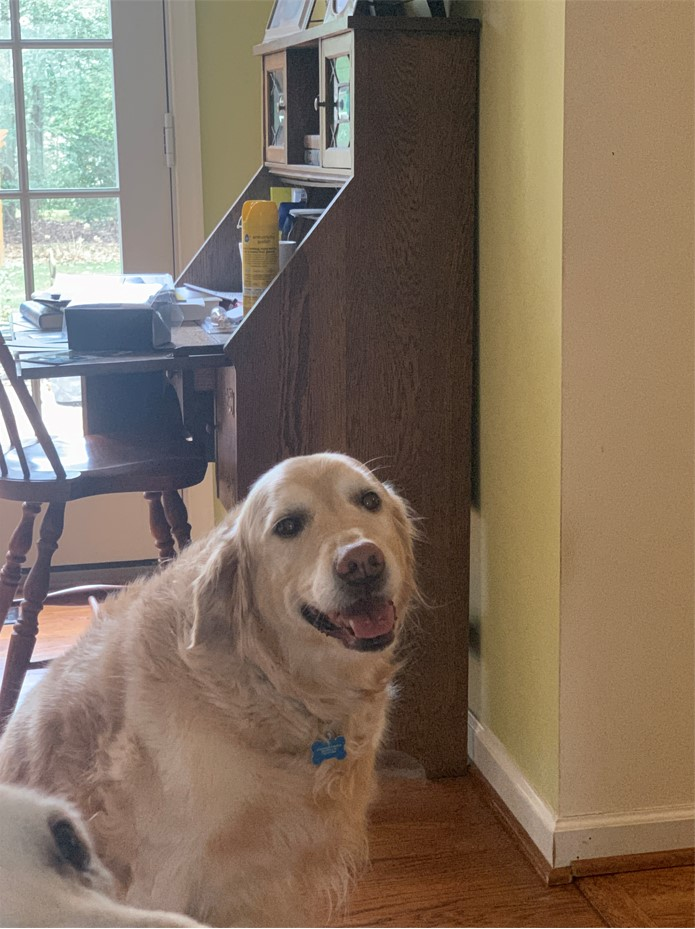bella: (192, 451, 417, 654)
